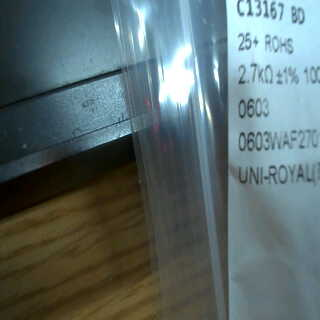2.7kR: (235, 60, 277, 89)
